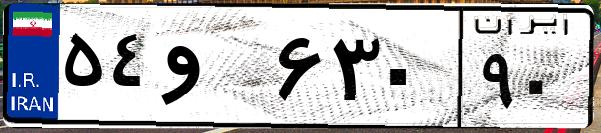0: (385, 28, 445, 110), (525, 38, 570, 115)
3: (330, 28, 385, 110)
4: (110, 28, 158, 98)
5: (57, 26, 110, 100)
6: (270, 28, 330, 110)
9: (475, 38, 525, 113)
و: (158, 20, 270, 120)
